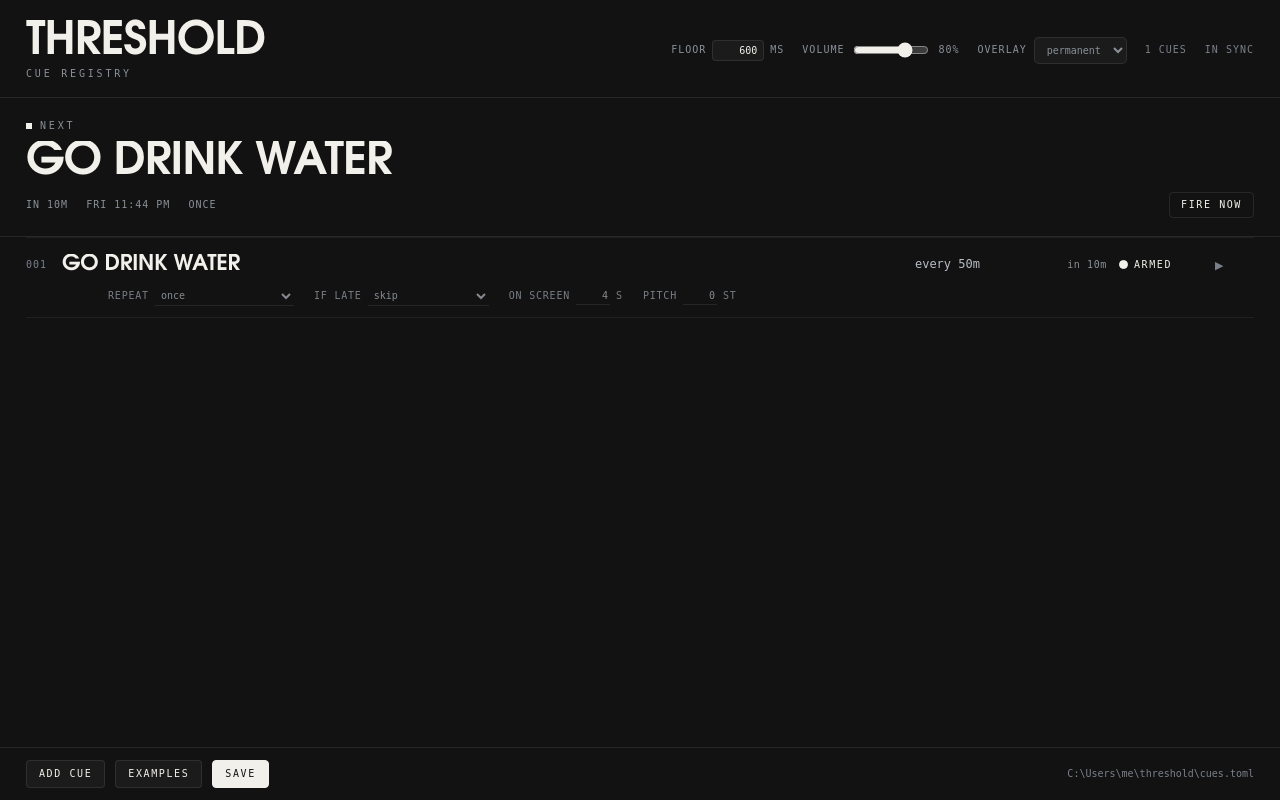
Test case: Settings › appends starter cues to the draft without saving over it
The width and height of the screenshot is (1280, 800).
Check: the field showing "GO DRINK WATER" is shown, box [62, 251, 905, 279]
Click the button "examples": (159, 774) [115, 760, 202, 788]
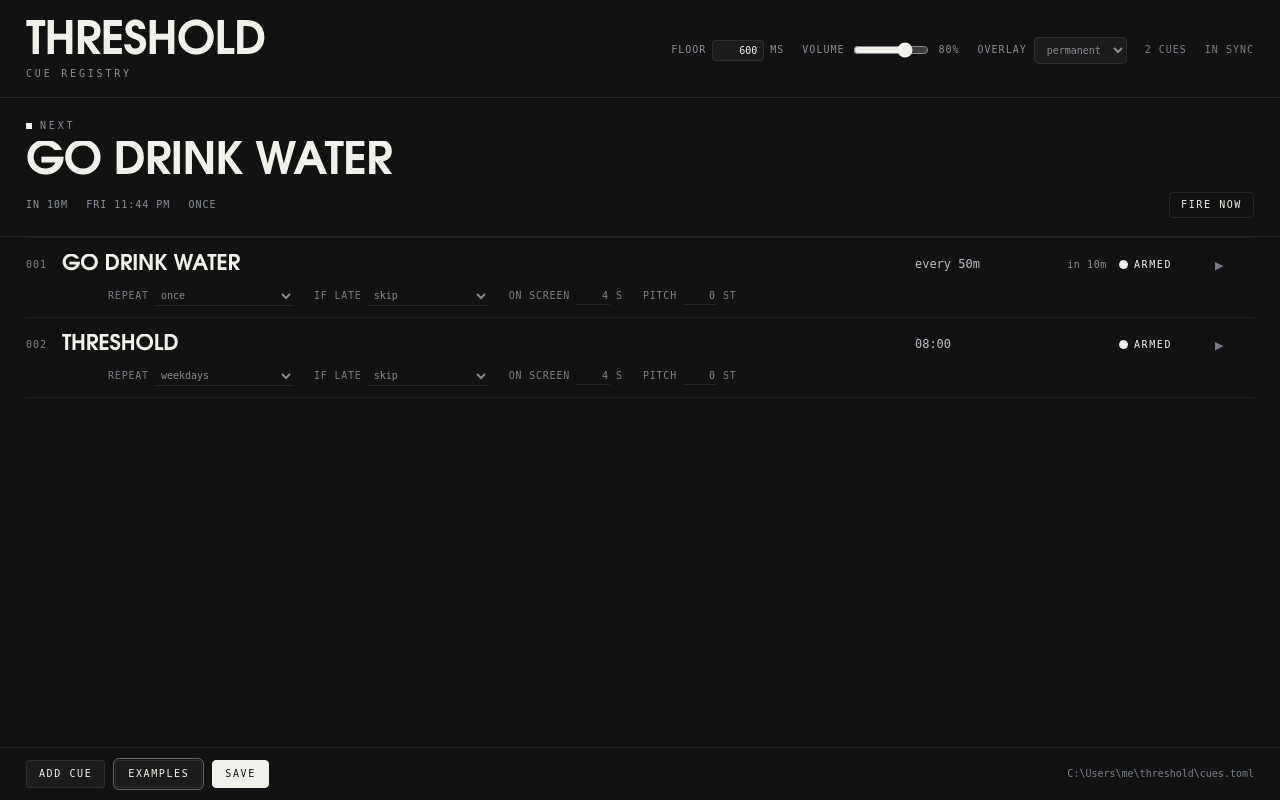
Check: the field showing "THRESHOLD" is shown, box [62, 331, 905, 359]
Check: the number of fields showing "GO DRINK WATER" is 1, box [62, 251, 905, 279]
